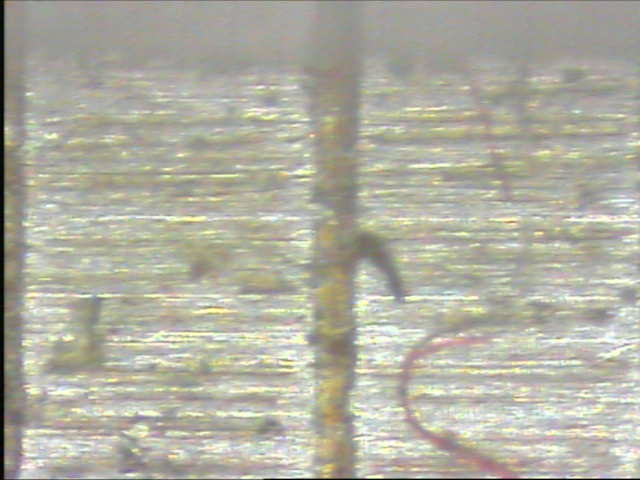line: (306, 63, 362, 474)
